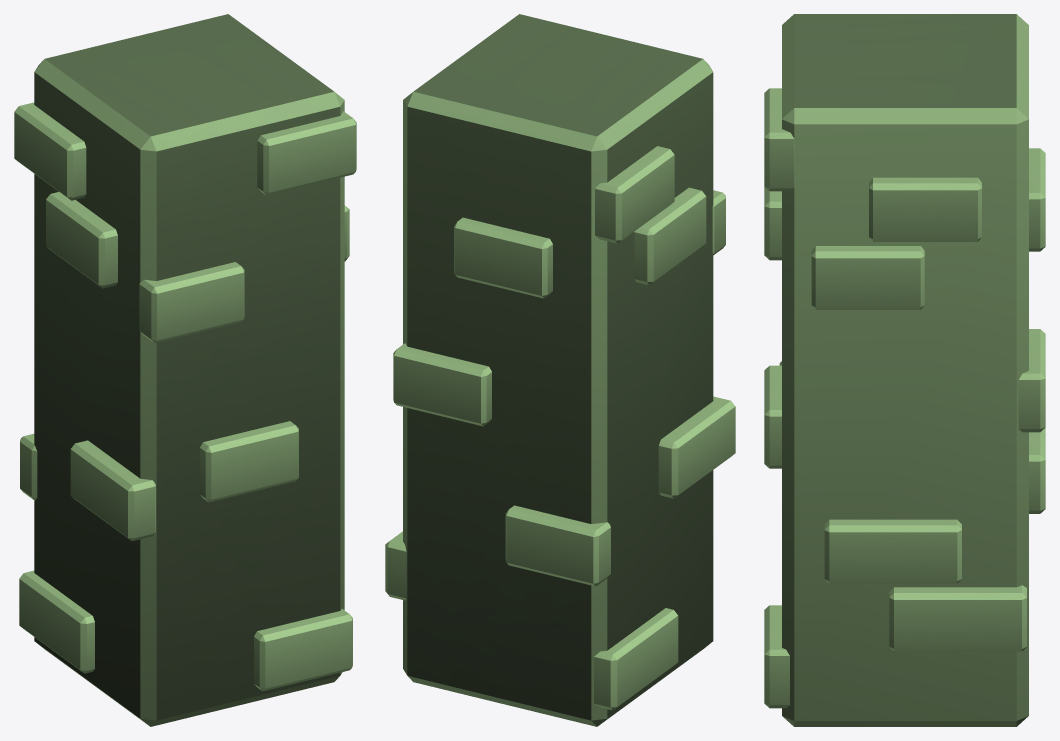
The model's file is Pillar.fbx.
3 views of the same model, side by side, from view 1: azimuth 30°, elevation 25°; view 2: azimuth 150°, elevation 25°; view 3: azimuth 270°, elevation 25° (orthographic). The views are drawn at different scales.
Parts seen in each view (by area): view 1: Pillar; view 2: Pillar; view 3: Pillar.
Part boxes in pixels (<box>): Pillar: <box>14,14,356,726</box>; Pillar: <box>385,14,735,726</box>; Pillar: <box>764,14,1045,726</box>.
Bounding box in the file's own units: 132 × 314 × 130.
